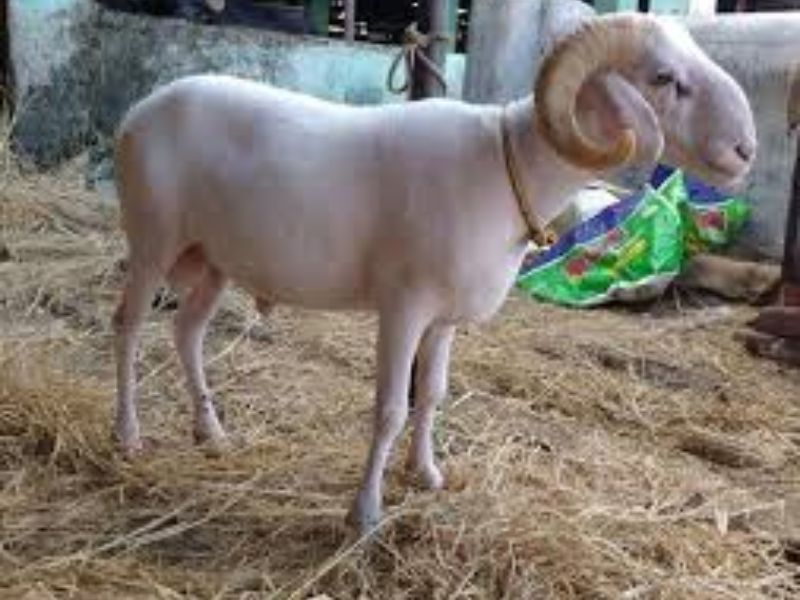sheep: (62, 4, 769, 561)
